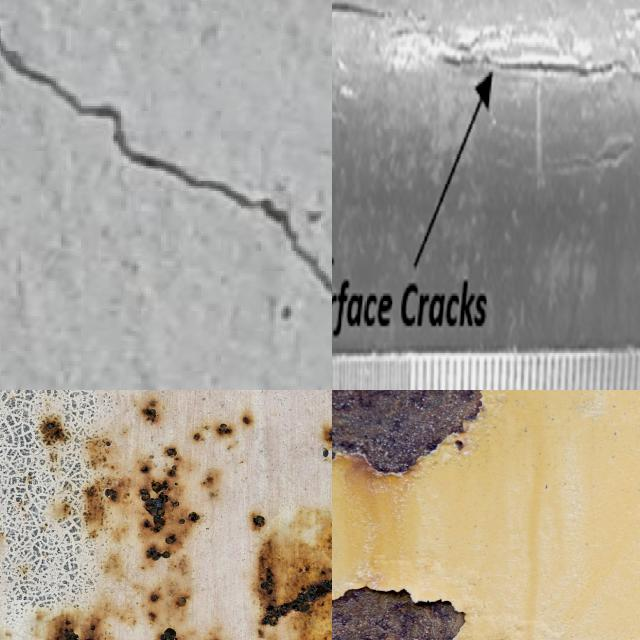Crack: (0, 37, 332, 305), (438, 32, 626, 81), (332, 0, 385, 15)
Pitting Corrosion: (83, 438, 223, 640), (332, 390, 481, 472), (256, 511, 332, 627), (187, 411, 254, 452), (39, 417, 68, 445), (140, 399, 159, 423), (325, 428, 332, 442)
